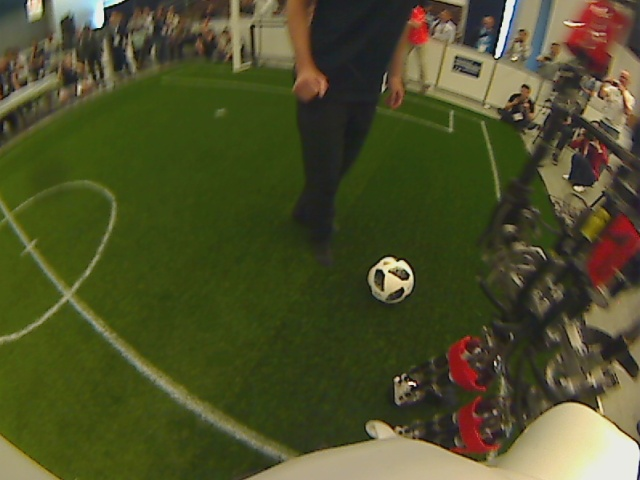ball: (366, 254, 414, 304)
